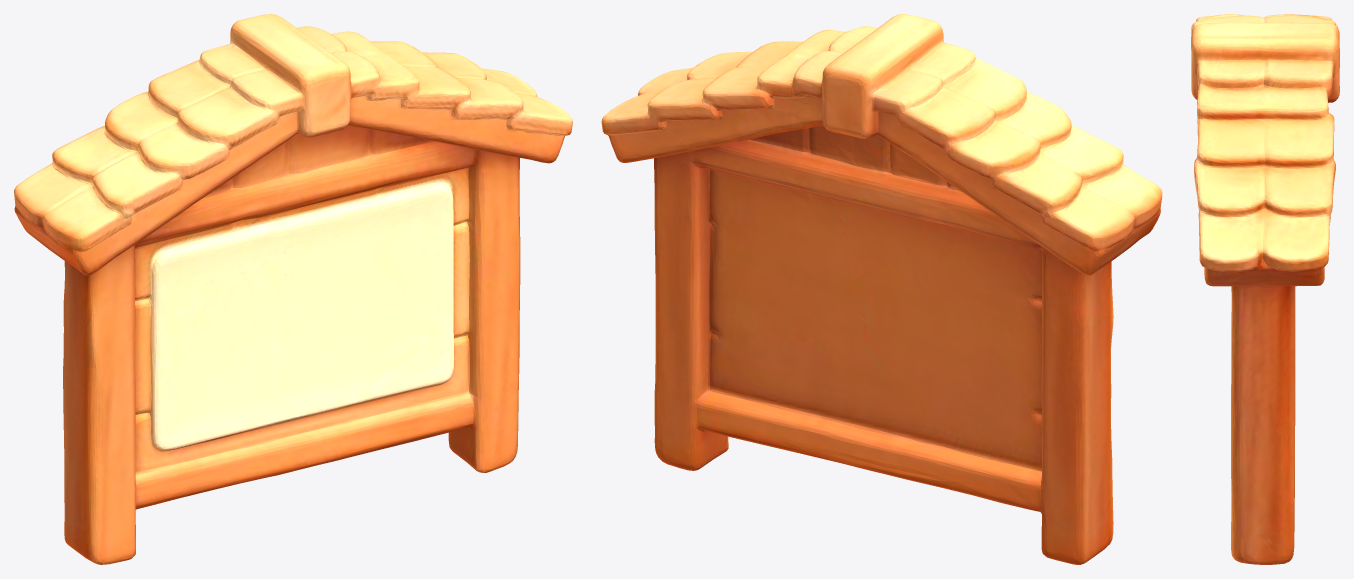
Rendered from record_board.glb.
The picture shows the model from 3 angles, left to right: view 1: azimuth 30°, elevation 25°; view 2: azimuth 150°, elevation 25°; view 3: azimuth 270°, elevation 25°; orthographic projection. The views are drawn at different scales.
Visible parts, largest first — view 1: tripo_mesh_cafcc838-6b7c-45ab-82f7-036f70288962; view 2: tripo_mesh_cafcc838-6b7c-45ab-82f7-036f70288962; view 3: tripo_mesh_cafcc838-6b7c-45ab-82f7-036f70288962.
Boxes of the visible parts, x1,y1,x2,y2 form: tripo_mesh_cafcc838-6b7c-45ab-82f7-036f70288962: (14, 14, 572, 564); tripo_mesh_cafcc838-6b7c-45ab-82f7-036f70288962: (601, 14, 1162, 564); tripo_mesh_cafcc838-6b7c-45ab-82f7-036f70288962: (1191, 14, 1339, 564).
Bounding box in the file's own units: 1.15 × 1 × 0.3075.
Materials: 1 (1 with a texture image).
